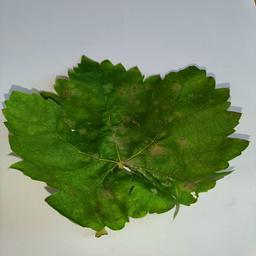Powdery-Mildew: (102, 176, 161, 212), (103, 116, 137, 149), (115, 77, 148, 104), (181, 177, 197, 194), (174, 78, 190, 94), (69, 82, 85, 98), (182, 132, 198, 148)
